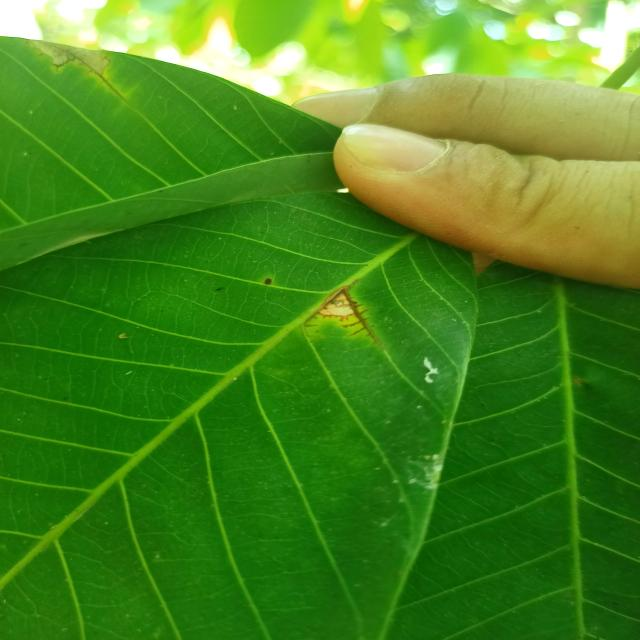Colletotrichum: (264, 278, 272, 284)
Corynespora: (342, 288, 375, 338)
Leaf-Blight: (319, 294, 353, 316)
